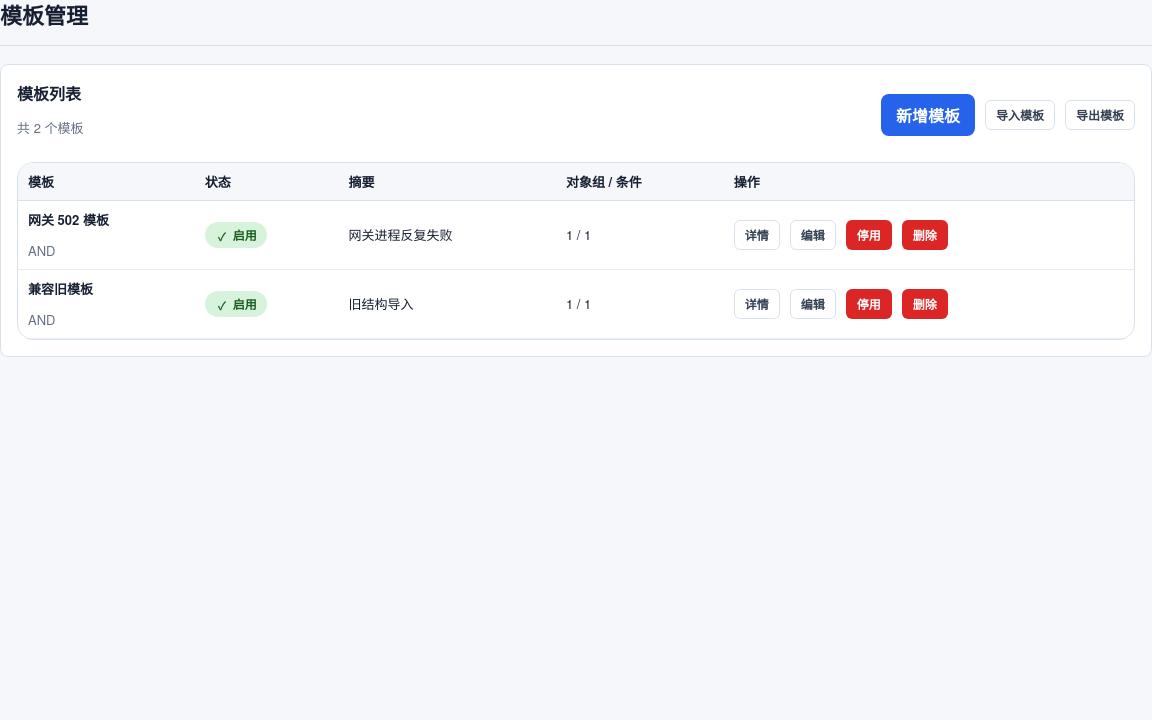
TemplatesPage › uses compatible target_groups when editing templates without targets
Expected: the text "兼容旧模板" is shown, [28,279,93,298]
Click the button "编辑" in the row of "兼容旧模板". click: (813, 304)
box: [790,289,836,319]
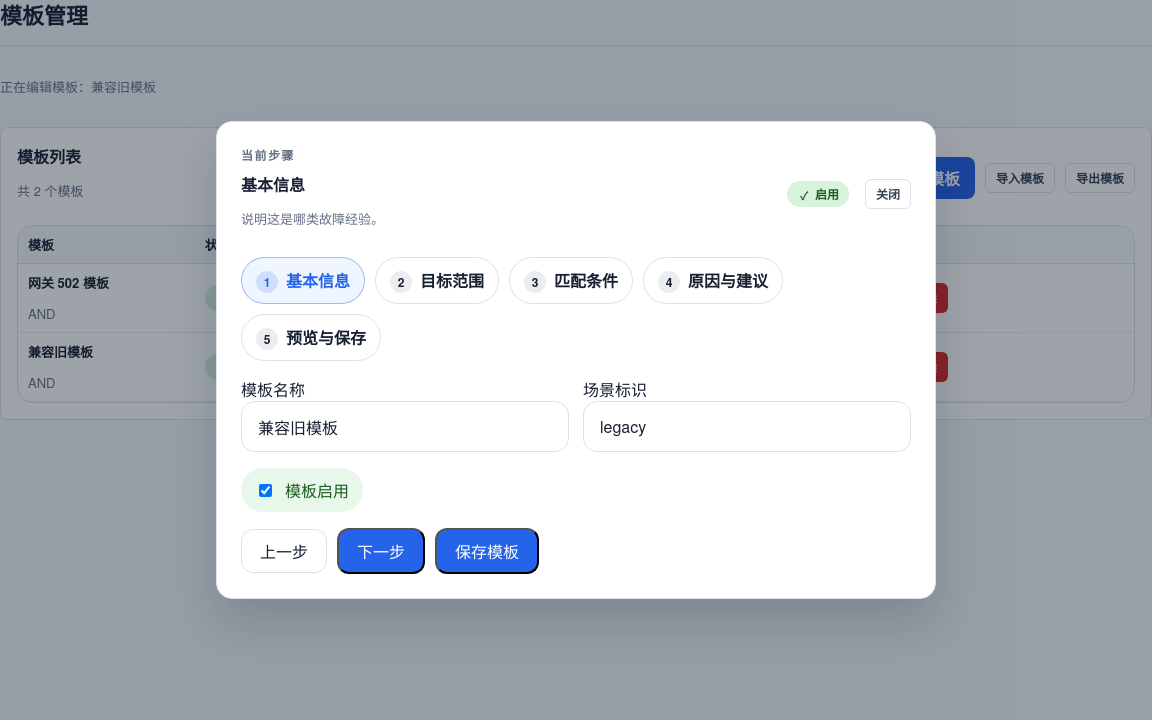
Click the button "2 目标范围". click: (437, 280)
box: [375,257,499,304]
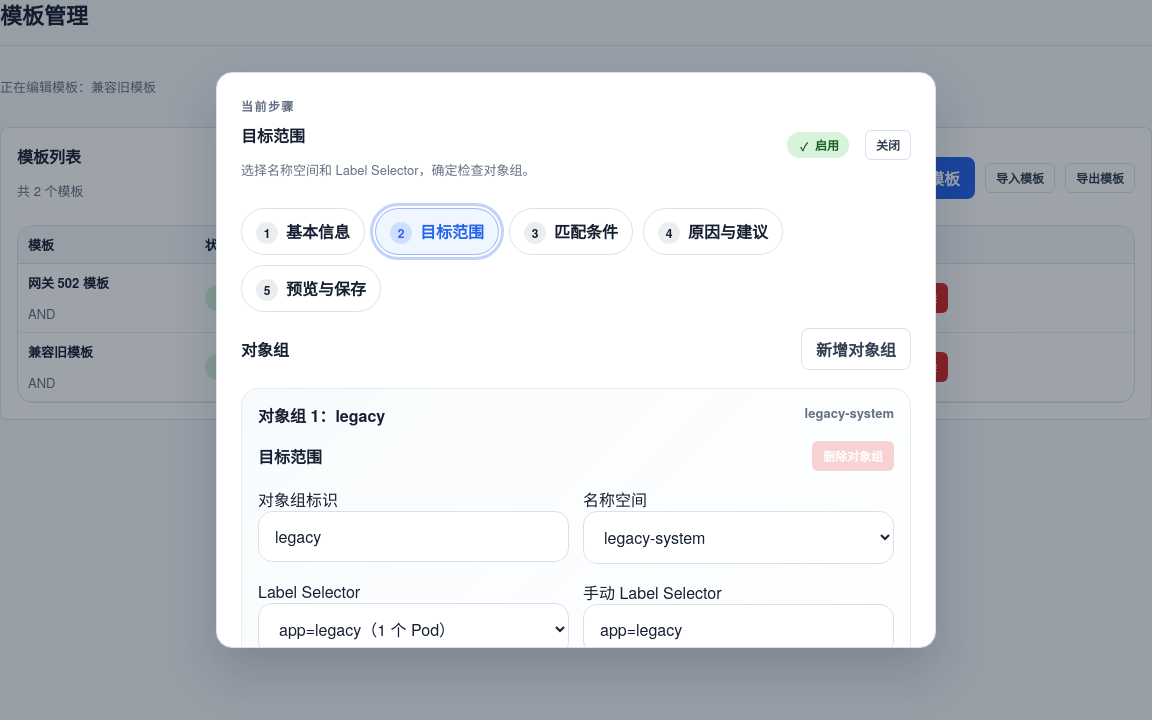
Result: the field named "对象组标识 1" holds "legacy" at [258,511,569,562]
Result: the dropdown labelled "名称空间" shows "legacy-system" at [583,511,894,564]
Result: the dropdown named "Label Selector 1" shows "app=legacy（1 个 Pod）" at [258,603,569,648]
